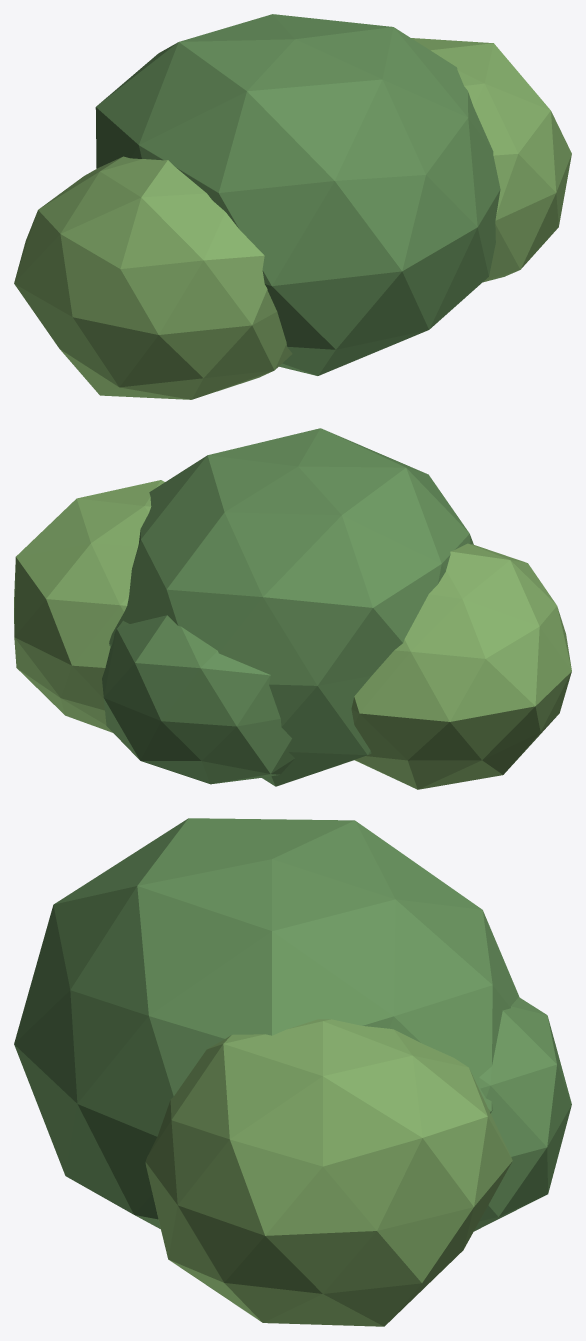
Rendered from bush.glb.
3 renders of one model, top to bottom at view 1: azimuth 30°, elevation 25°; view 2: azimuth 150°, elevation 25°; view 3: azimuth 270°, elevation 25°, orthographic. The views are drawn at different scales.
Visible parts, largest first — view 1: bush; view 2: bush; view 3: bush.
Part boxes in pixels (x1,y1,x2,y2): bush: (14, 14, 571, 399); bush: (14, 428, 571, 789); bush: (14, 818, 571, 1326).
Size of the model in its own units: 2.23 by 1.25 by 1.65.
